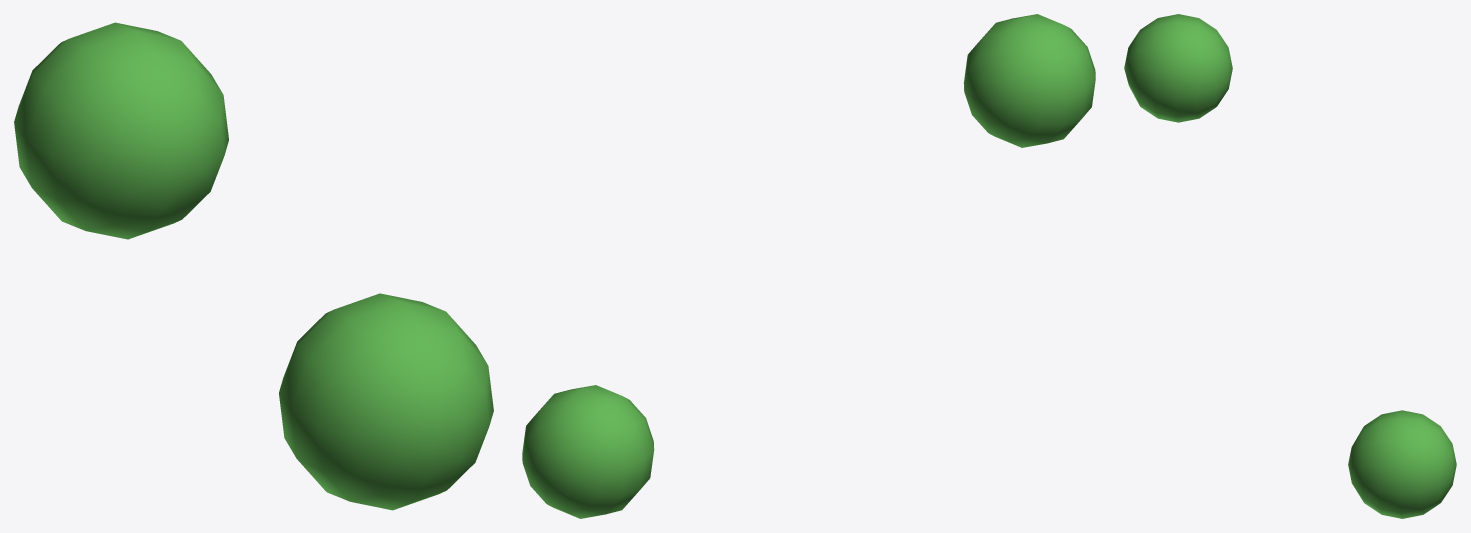
Rendered from linfatico-superficial-popliteal-nodes-r.glb.
3 renders of one model, left to right at view 1: azimuth 30°, elevation 25°; view 2: azimuth 150°, elevation 25°; view 3: azimuth 270°, elevation 25°, orthographic. The views are drawn at different scales.
Visible parts, largest first — view 1: Superficial popliteal nodes.r; view 2: Superficial popliteal nodes.r; view 3: Superficial popliteal nodes.r.
Part boxes in pixels (<box>): Superficial popliteal nodes.r: <box>14,22,493,510</box>; Superficial popliteal nodes.r: <box>522,14,1095,518</box>; Superficial popliteal nodes.r: <box>1124,14,1456,518</box>.
Size of the model in its own units: 0.00932 by 0.00988 by 0.00795.
